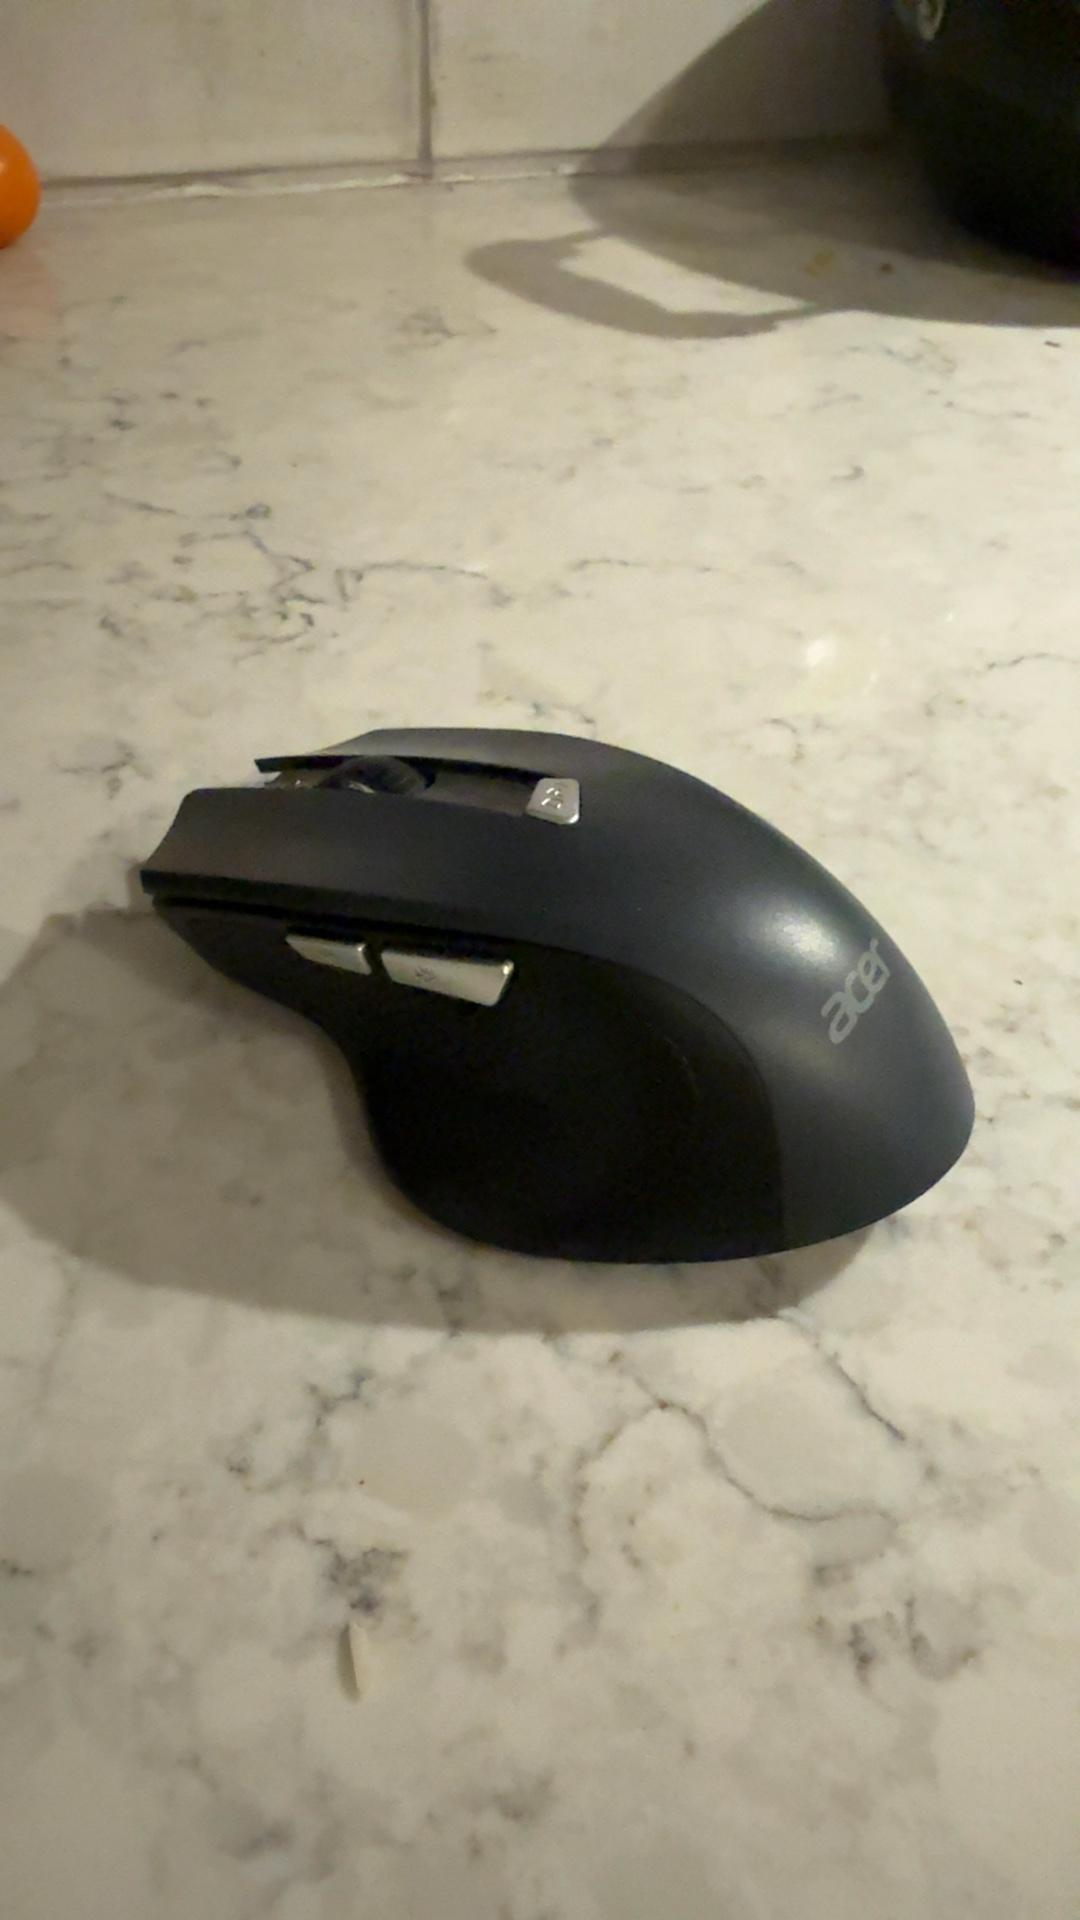Mouse: (112, 662, 1021, 1261)
